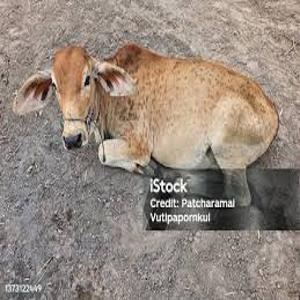lumpy skin diesease: (12, 42, 279, 225)
